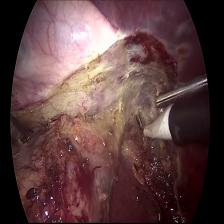Grasper: (154, 72, 206, 110)
Hook: (133, 107, 173, 143)
